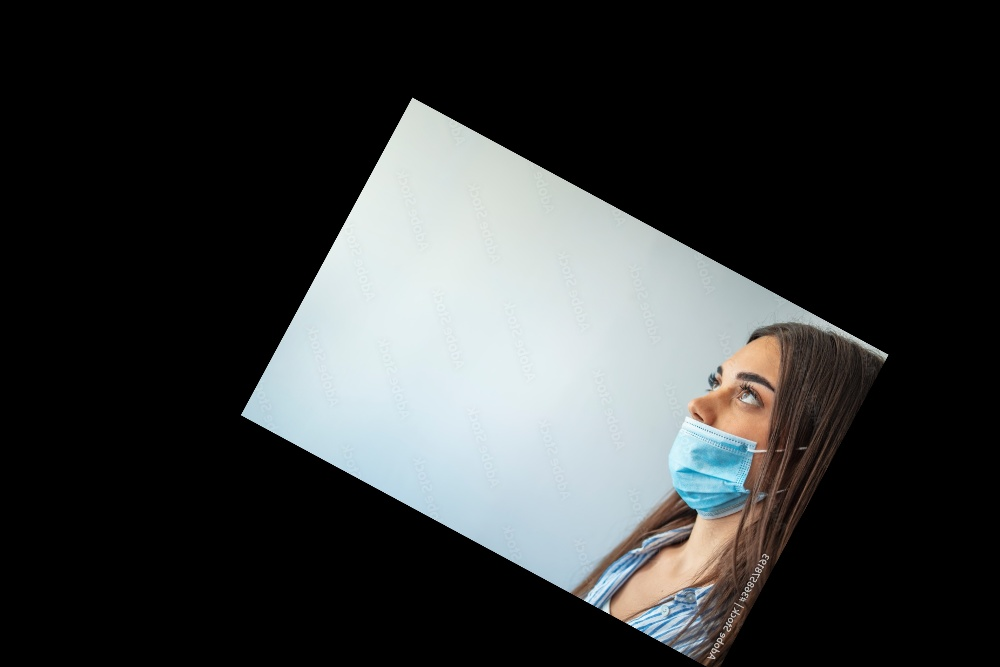mask_weared_incorrect: (658, 316, 815, 522)
